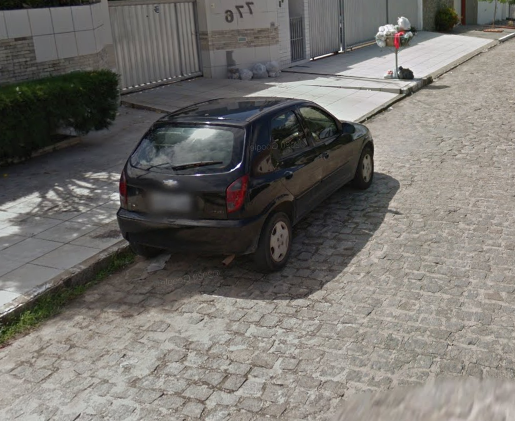car: (116, 96, 377, 277)
